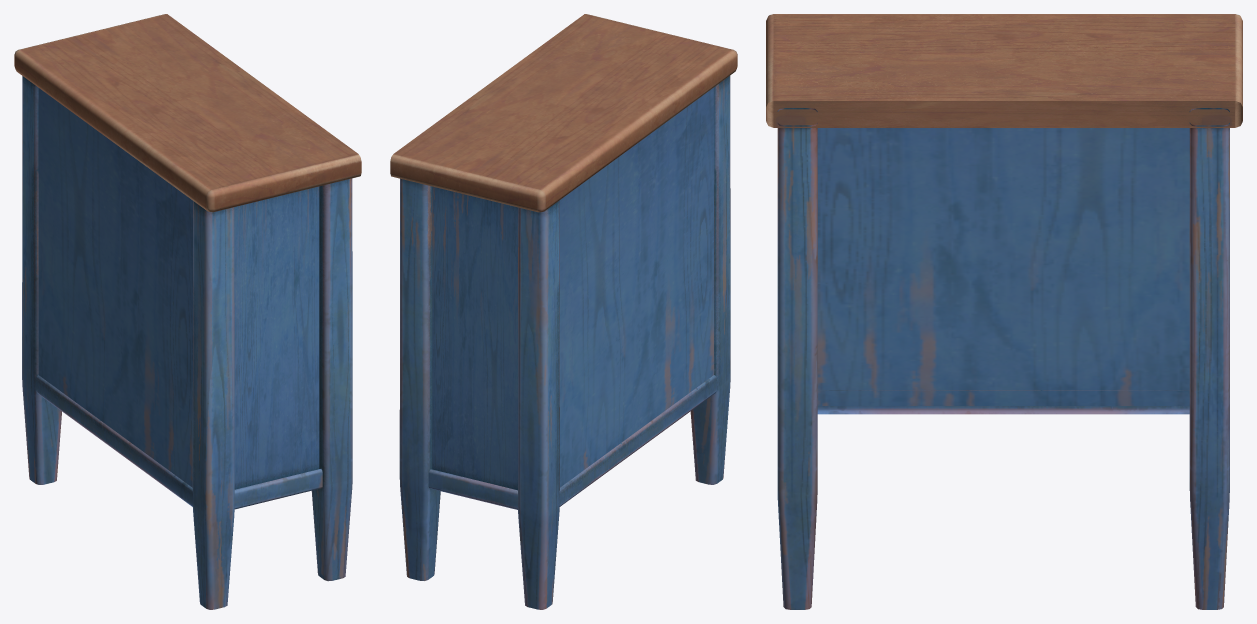
File: SM_Cabinet_03.fbx
The picture shows the model from 3 angles, left to right: view 1: azimuth 30°, elevation 25°; view 2: azimuth 150°, elevation 25°; view 3: azimuth 270°, elevation 25°; orthographic projection. The views are drawn at different scales.
Parts seen in each view (by area): view 1: SM_Cabinet_03_LOD0; view 2: SM_Cabinet_03_LOD0; view 3: SM_Cabinet_03_LOD0.
Part boxes in pixels (x1=…): SM_Cabinet_03_LOD0: x1=14, y1=14, x2=361, y2=609; SM_Cabinet_03_LOD0: x1=390, y1=14, x2=737, y2=609; SM_Cabinet_03_LOD0: x1=766, y1=14, x2=1242, y2=609.
Bounding box in the file's own units: 39.69 × 89.11 × 106.
Materials: 1 (1 with a texture image).
